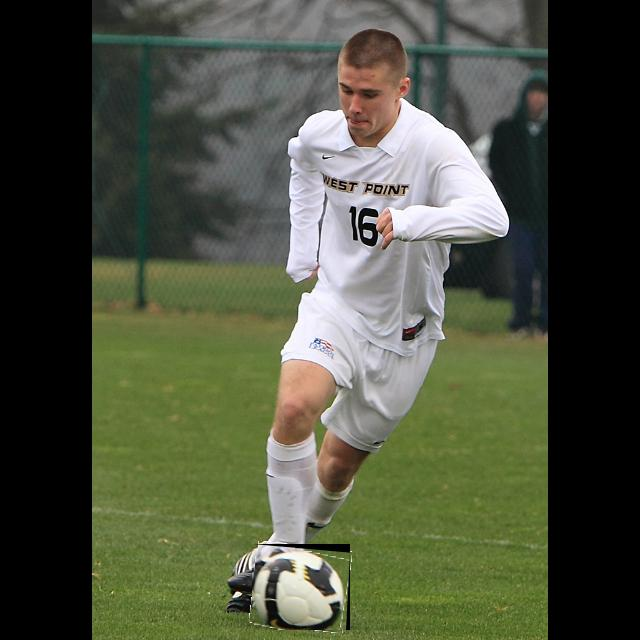Football: (252, 544, 350, 630)
